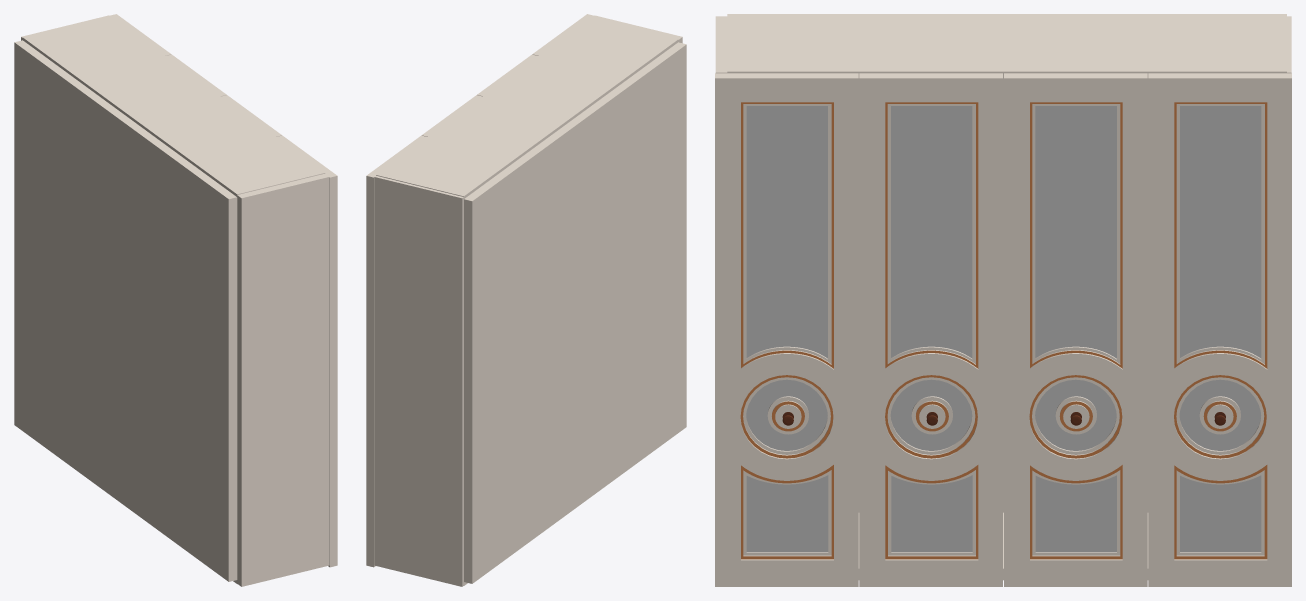
The model's file is closet.fbx.
3 views of the same model, side by side, from view 1: azimuth 30°, elevation 25°; view 2: azimuth 150°, elevation 25°; view 3: azimuth 270°, elevation 25° (orthographic). The views are drawn at different scales.
Visible parts, largest first — view 1: Cube.005, Cube.002, Cube.003, Cube; view 2: Cube.005, Cube.001, Cube.003, Cube; view 3: Cube, Cube.003, Cylinder.002, Cube.005, Cube.002.
Part boxes in pixels (<box>): Cube.005: <box>14,40,237,581</box>; Cube.002: <box>236,173,329,586</box>; Cube.003: <box>22,16,325,196</box>; Cube: <box>110,14,337,567</box>; Cube.005: <box>464,42,686,583</box>; Cube.001: <box>374,175,466,586</box>; Cube.003: <box>376,18,678,196</box>; Cube: <box>366,14,593,567</box>; Cube: <box>715,73,1291,586</box>; Cube.003: <box>727,15,1286,83</box>; Cylinder.002: <box>767,396,1240,434</box>; Cube.005: <box>727,14,1286,512</box>; Cube.002: <box>715,16,727,73</box>.
Size of the model in its own units: 139 by 473 by 484.
